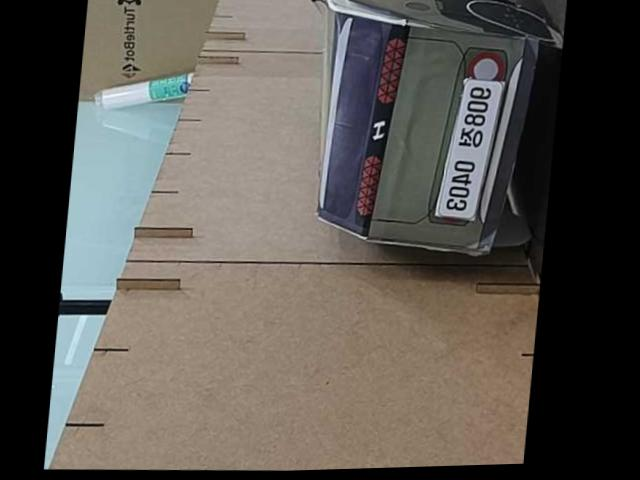car: (296, 0, 566, 262)
id: (437, 77, 504, 220)
